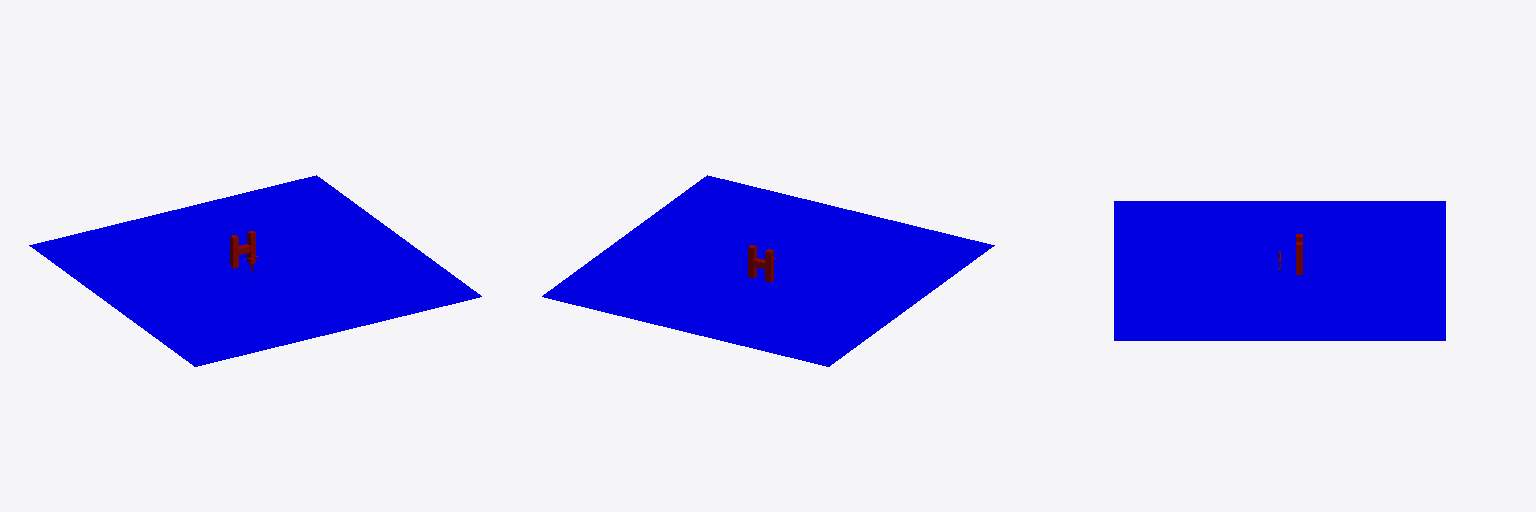
The model's file is testScene.obj.
The picture shows the model from 3 angles: view 1: azimuth 30°, elevation 25°; view 2: azimuth 150°, elevation 25°; view 3: azimuth 270°, elevation 25°; orthographic projection.
Parts seen in each view (by area): view 1: Plane, character_n; view 2: Plane, character_n; view 3: Plane.
Boxes of the visible parts, x1,y1,x2,y2 form: Plane: [29, 175, 481, 366]; character_n: [230, 231, 255, 268]; Plane: [542, 175, 994, 366]; character_n: [748, 245, 773, 282]; Plane: [1114, 201, 1445, 340].
Bounding box in the file's own units: 20 × 2.02 × 20.